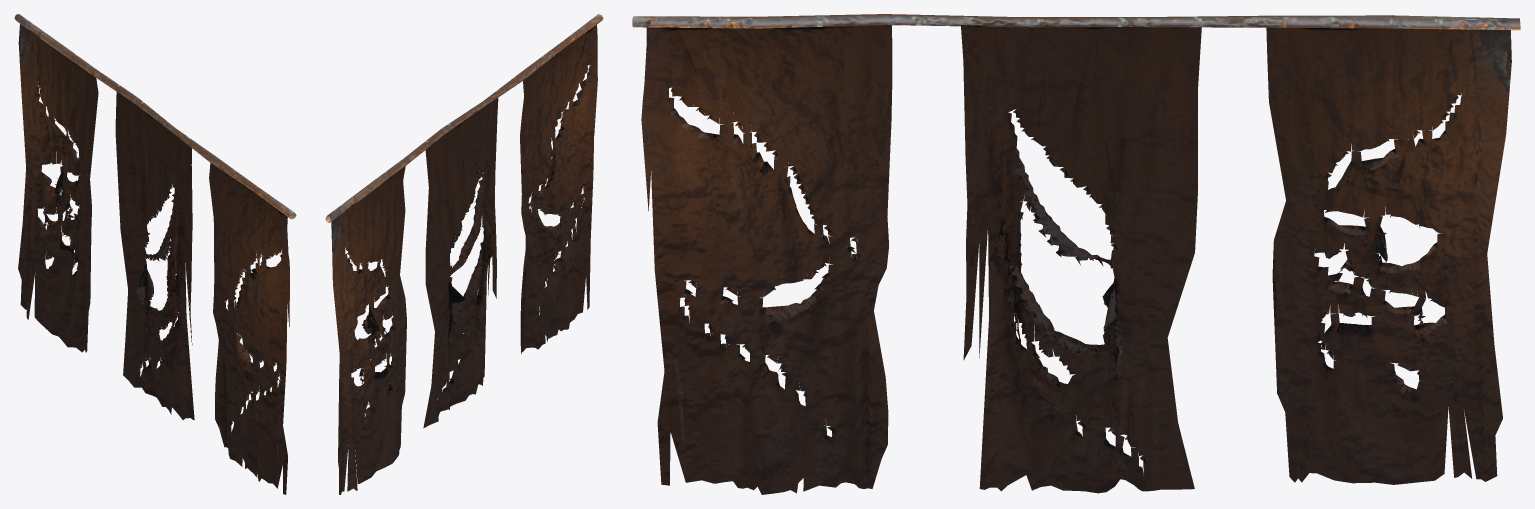
Rendered from Curtain.gltf.
The picture shows the model from 3 angles, left to right: view 1: azimuth 30°, elevation 25°; view 2: azimuth 150°, elevation 25°; view 3: azimuth 270°, elevation 25°; orthographic projection. The views are drawn at different scales.
Parts seen in each view (by area): view 1: Curtain; view 2: Curtain; view 3: Curtain.
Boxes of the visible parts, x1,y1,x2,y2 form: Curtain: [14, 14, 296, 494]; Curtain: [325, 14, 603, 494]; Curtain: [632, 14, 1520, 494].
Bounding box in the file's own units: 0.1181 × 1.57 × 2.65.
Materials: 1 (1 with a texture image).
